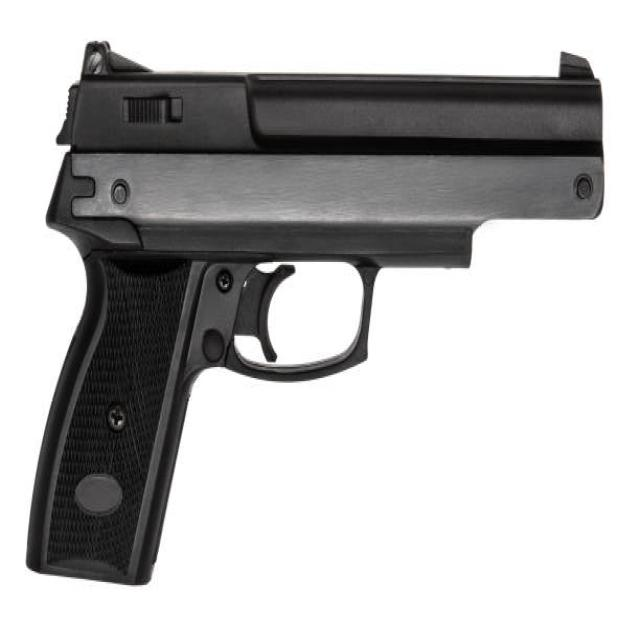pistol: (23, 31, 609, 594)
